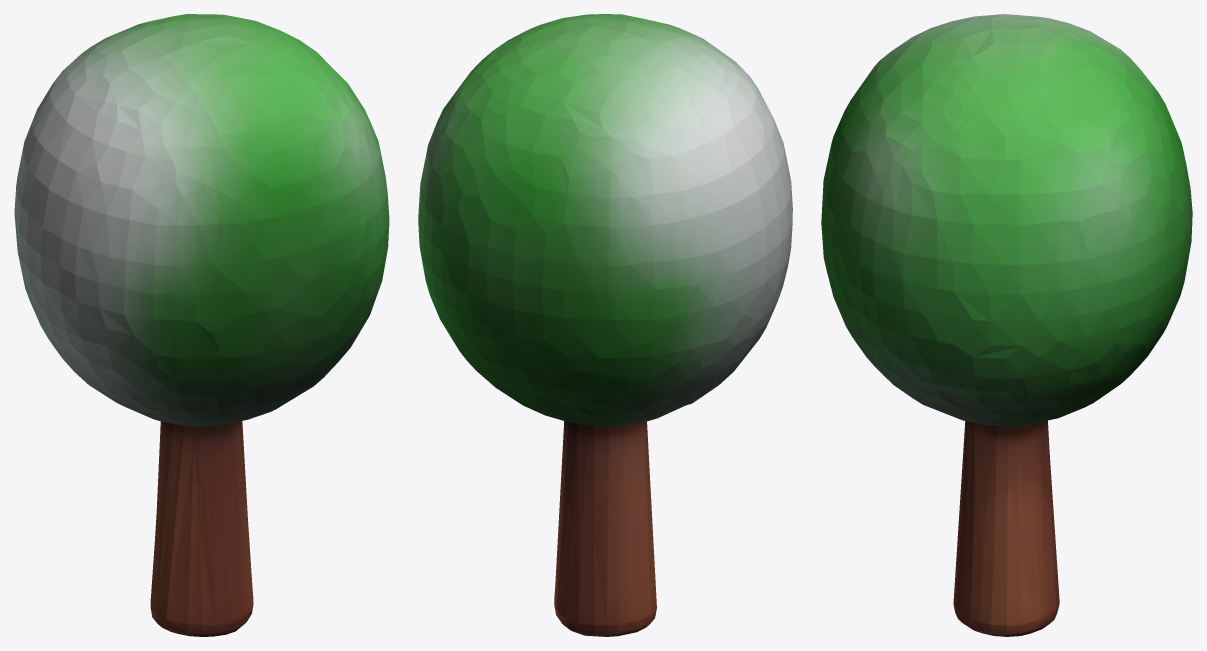
The model's file is citytree.glb.
3 views of the same model, side by side, from view 1: azimuth 30°, elevation 25°; view 2: azimuth 150°, elevation 25°; view 3: azimuth 270°, elevation 25° (orthographic).
Visible parts, largest first — view 1: geometry_0; view 2: geometry_0; view 3: geometry_0.
Part boxes in pixels (x1,y1,x2,y2): geometry_0: (14, 14, 389, 636); geometry_0: (418, 14, 792, 636); geometry_0: (821, 14, 1192, 636).
Bounding box in the file's own units: 0.5696 × 0.9975 × 0.569.
Materials: 1 (1 with a texture image).
